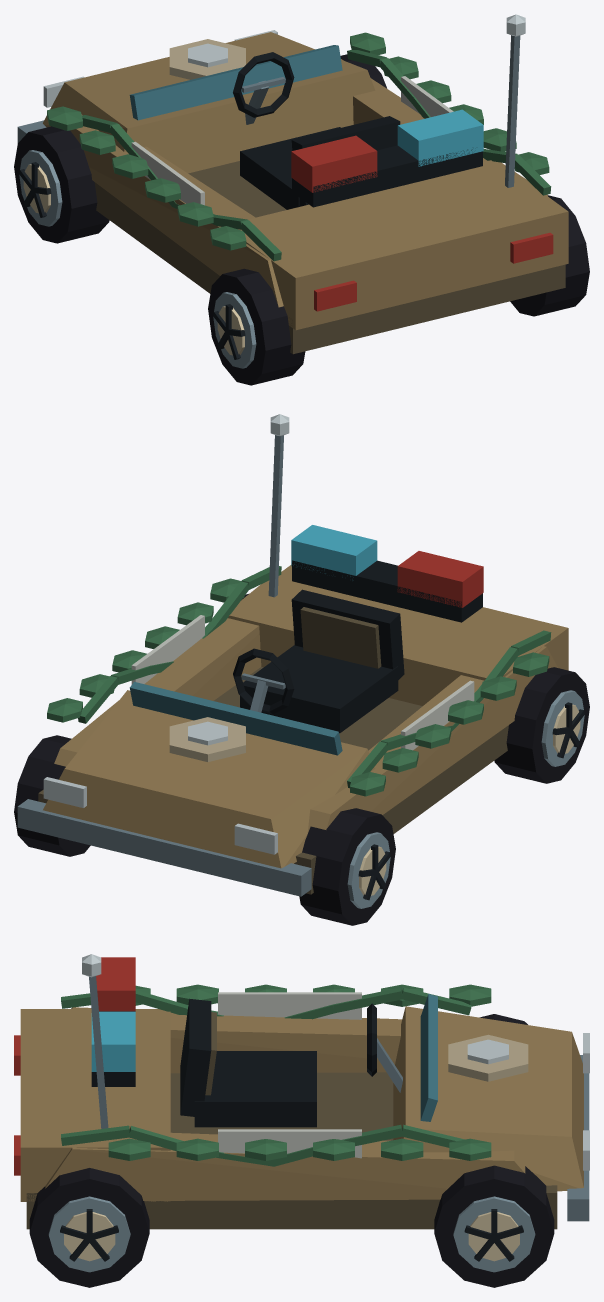
The model's file is kart.glb.
3 views of the same model, one above another, from view 1: azimuth 30°, elevation 25°; view 2: azimuth 150°, elevation 25°; view 3: azimuth 270°, elevation 25° (orthographic). The views are drawn at different scales.
Parts seen in each view (by area): view 1: identity-police-car-police-car-road-car-body, identity-police-car-motif-vines, wheel-front-left, wheel-rear-left, identity-police-car-driver-cockpit, wheel-rear-right, identity-police-car-motif-badge, identity-police-car-motif-antenna; view 2: identity-police-car-police-car-road-car-body, identity-police-car-driver-cockpit, identity-police-car-motif-vines, wheel-front-left, wheel-rear-left, wheel-front-right, identity-police-car-motif-badge, identity-police-car-motif-antenna; view 3: identity-police-car-police-car-road-car-body, identity-police-car-motif-vines, identity-police-car-driver-cockpit, wheel-front-right, wheel-rear-right, identity-police-car-motif-badge, identity-police-car-motif-antenna.
Part boxes in pixels (x1,y1,x2,y2): identity-police-car-police-car-road-car-body: (17, 30, 568, 354); identity-police-car-motif-vines: (47, 32, 551, 261); wheel-front-left: (14, 126, 109, 243); wheel-rear-left: (208, 268, 305, 385); identity-police-car-driver-cockpit: (233, 52, 400, 209); wheel-rear-right: (510, 195, 589, 316); identity-police-car-motif-badge: (169, 39, 245, 79); identity-police-car-motif-antenna: (505, 14, 525, 187); identity-police-car-police-car-road-car-body: (17, 525, 568, 896); identity-police-car-driver-cockpit: (233, 589, 404, 733); identity-police-car-motif-vines: (47, 566, 551, 796); wheel-front-left: (299, 808, 395, 925); wheel-rear-left: (494, 667, 589, 783); wheel-front-right: (14, 735, 90, 856); identity-police-car-motif-badge: (169, 717, 245, 761); identity-police-car-motif-antenna: (268, 414, 289, 597); identity-police-car-police-car-road-car-body: (14, 957, 589, 1229); identity-police-car-motif-vines: (61, 984, 491, 1166); identity-police-car-driver-cockpit: (180, 998, 402, 1127); wheel-front-right: (434, 1165, 554, 1287); wheel-rear-right: (29, 1168, 149, 1287); identity-police-car-motif-badge: (448, 1034, 528, 1081); identity-police-car-motif-antenna: (82, 954, 108, 1128).
Size of the model in its own units: 2.07 by 1.72 by 2.88.
